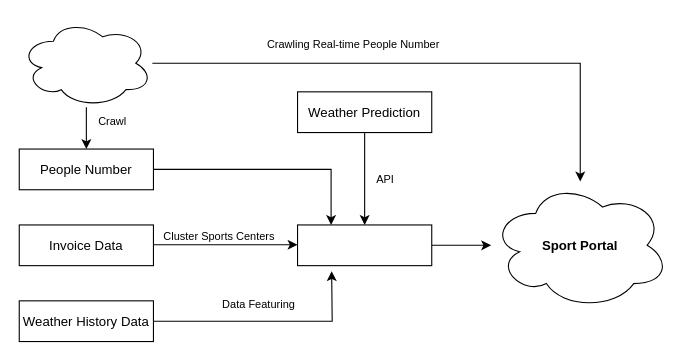
This 689x361 diagram has some shape labels left out. Each missing label, with the centre of its shape:
"Prediction Model" goes at pixel 364 245.
"Sports Center Website" goes at pixel 85 62.
